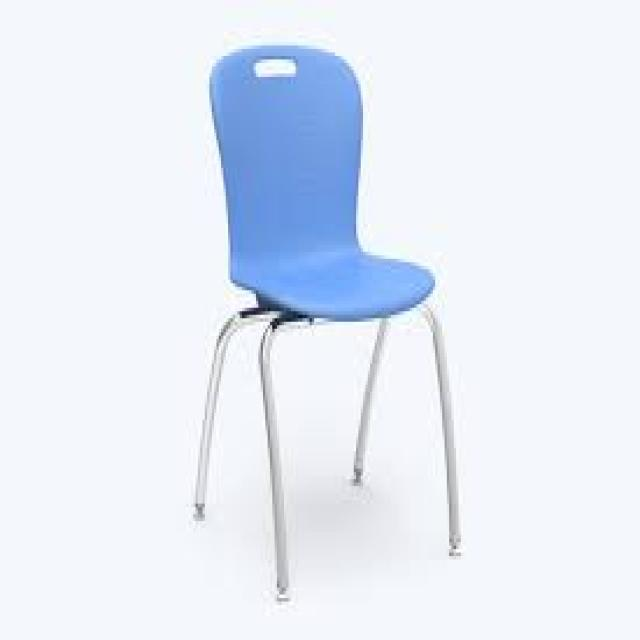chair: (151, 31, 468, 630)
